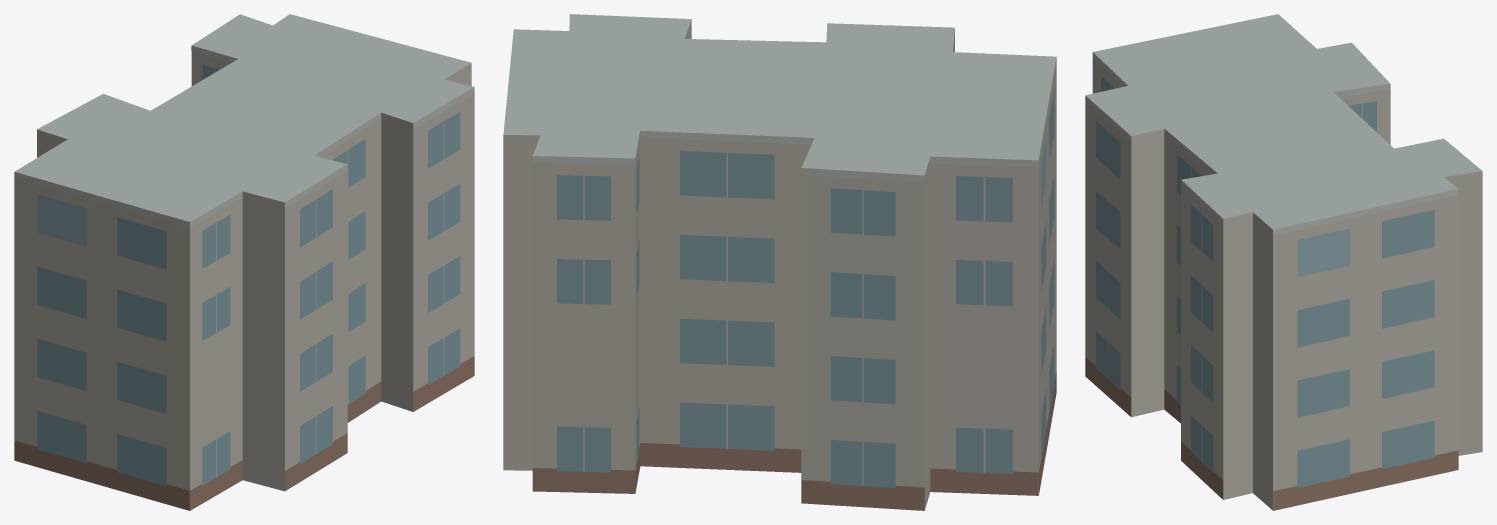
Rendered from survey-upis-33023670.glb.
3 renders of one model, left to right at view 1: azimuth 30°, elevation 25°; view 2: azimuth 150°, elevation 25°; view 3: azimuth 270°, elevation 25°, orthographic. The views are drawn at different scales.
Parts seen in each view (by area): view 1: survey-upis-33023670.tmp; view 2: survey-upis-33023670.tmp; view 3: survey-upis-33023670.tmp.
Boxes of the visible parts, <box> form: survey-upis-33023670.tmp: <box>14,14,474,510</box>; survey-upis-33023670.tmp: <box>503,14,1056,510</box>; survey-upis-33023670.tmp: <box>1085,14,1482,510</box>.
Bounding box in the file's own units: 19.78 × 12 × 15.38.
